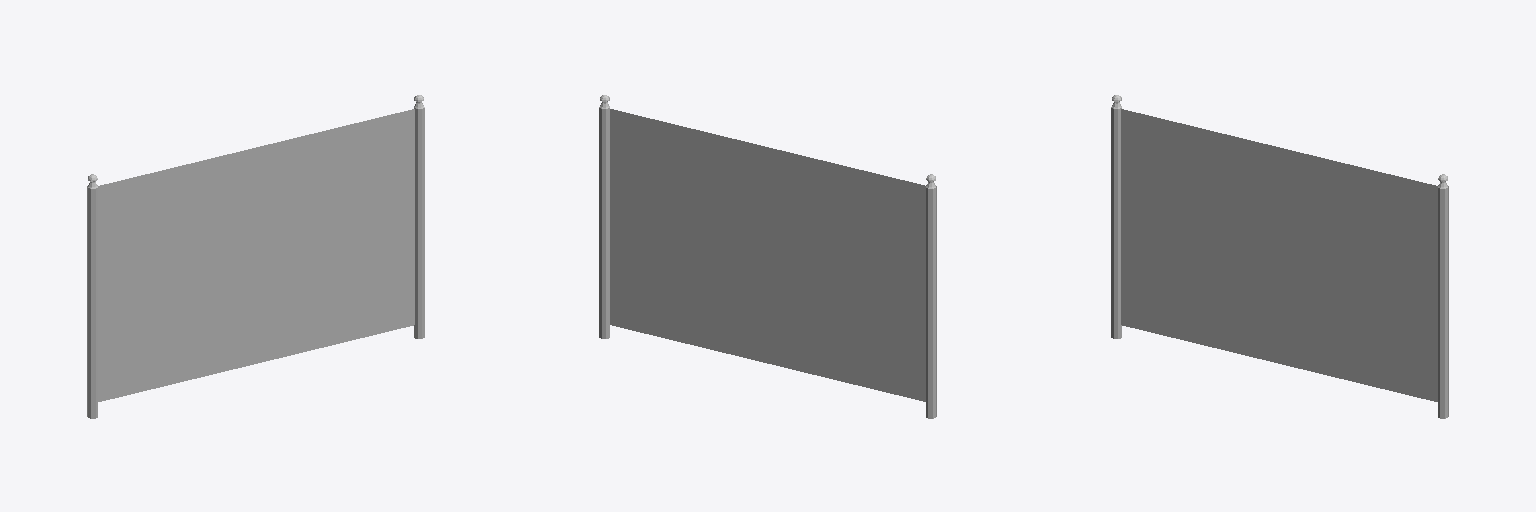
The model's file is remove.obj.
3 views of the same model, side by side, from view 1: azimuth 30°, elevation 25°; view 2: azimuth 150°, elevation 25°; view 3: azimuth 330°, elevation 25° (orthographic).
Visible parts, largest first — view 1: Fence_Cubo.001; view 2: Fence_Cubo.001; view 3: Fence_Cubo.001.
Part boxes in pixels (x1,y1,x2,y2): Fence_Cubo.001: (87,95,424,418); Fence_Cubo.001: (599,95,936,418); Fence_Cubo.001: (1111,95,1448,418).
Bounding box in the file's own units: 1.94 × 1.33 × 0.056.